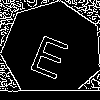E: (27, 25, 76, 81)
